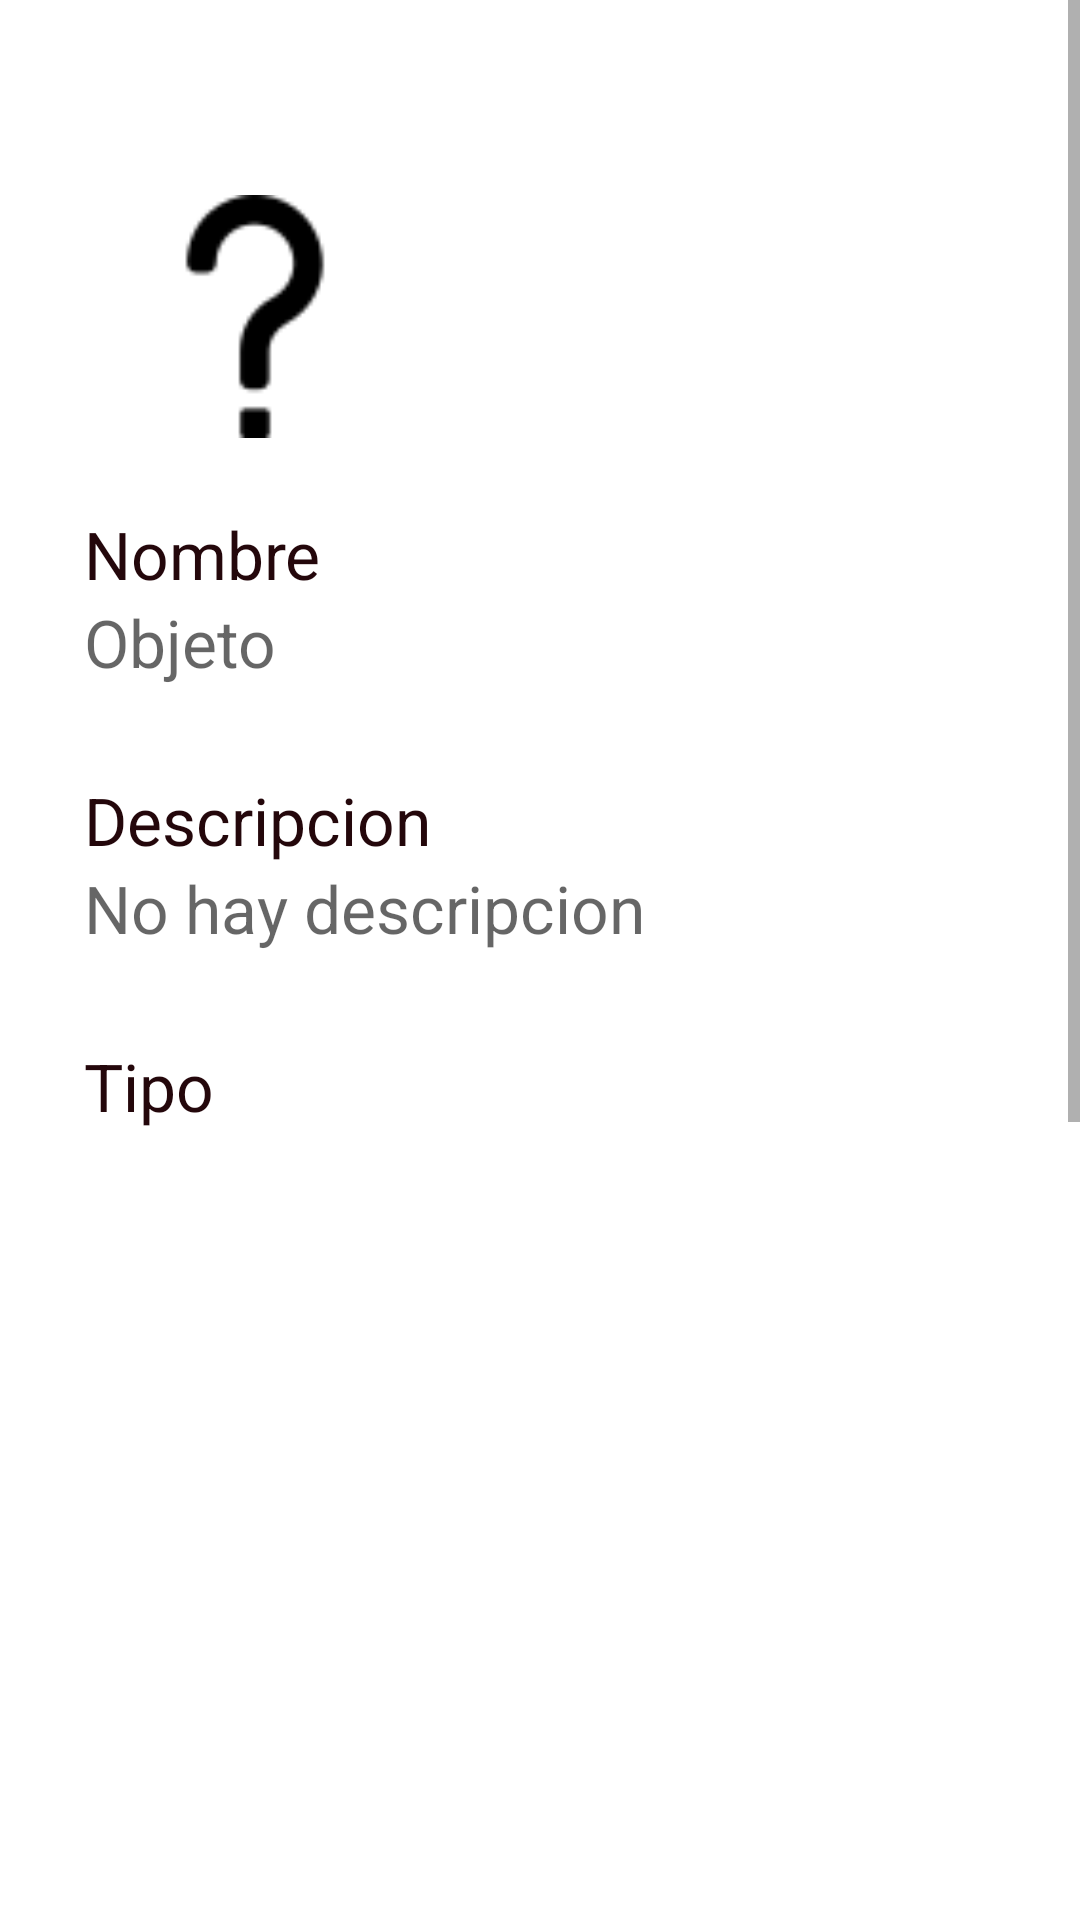

Icon click points for this 1080×1920 phone screenshot, format point (x, y):
questionmark: point (255, 316)
